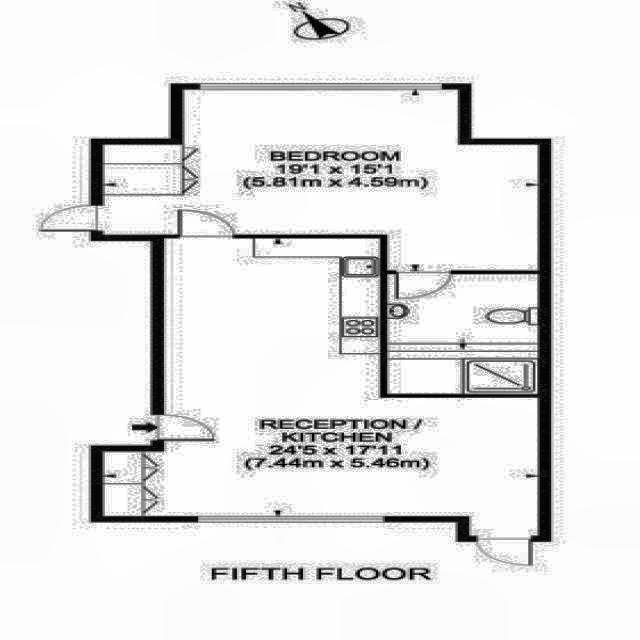room: (104, 239, 538, 535), (104, 89, 537, 270), (389, 275, 537, 393)
